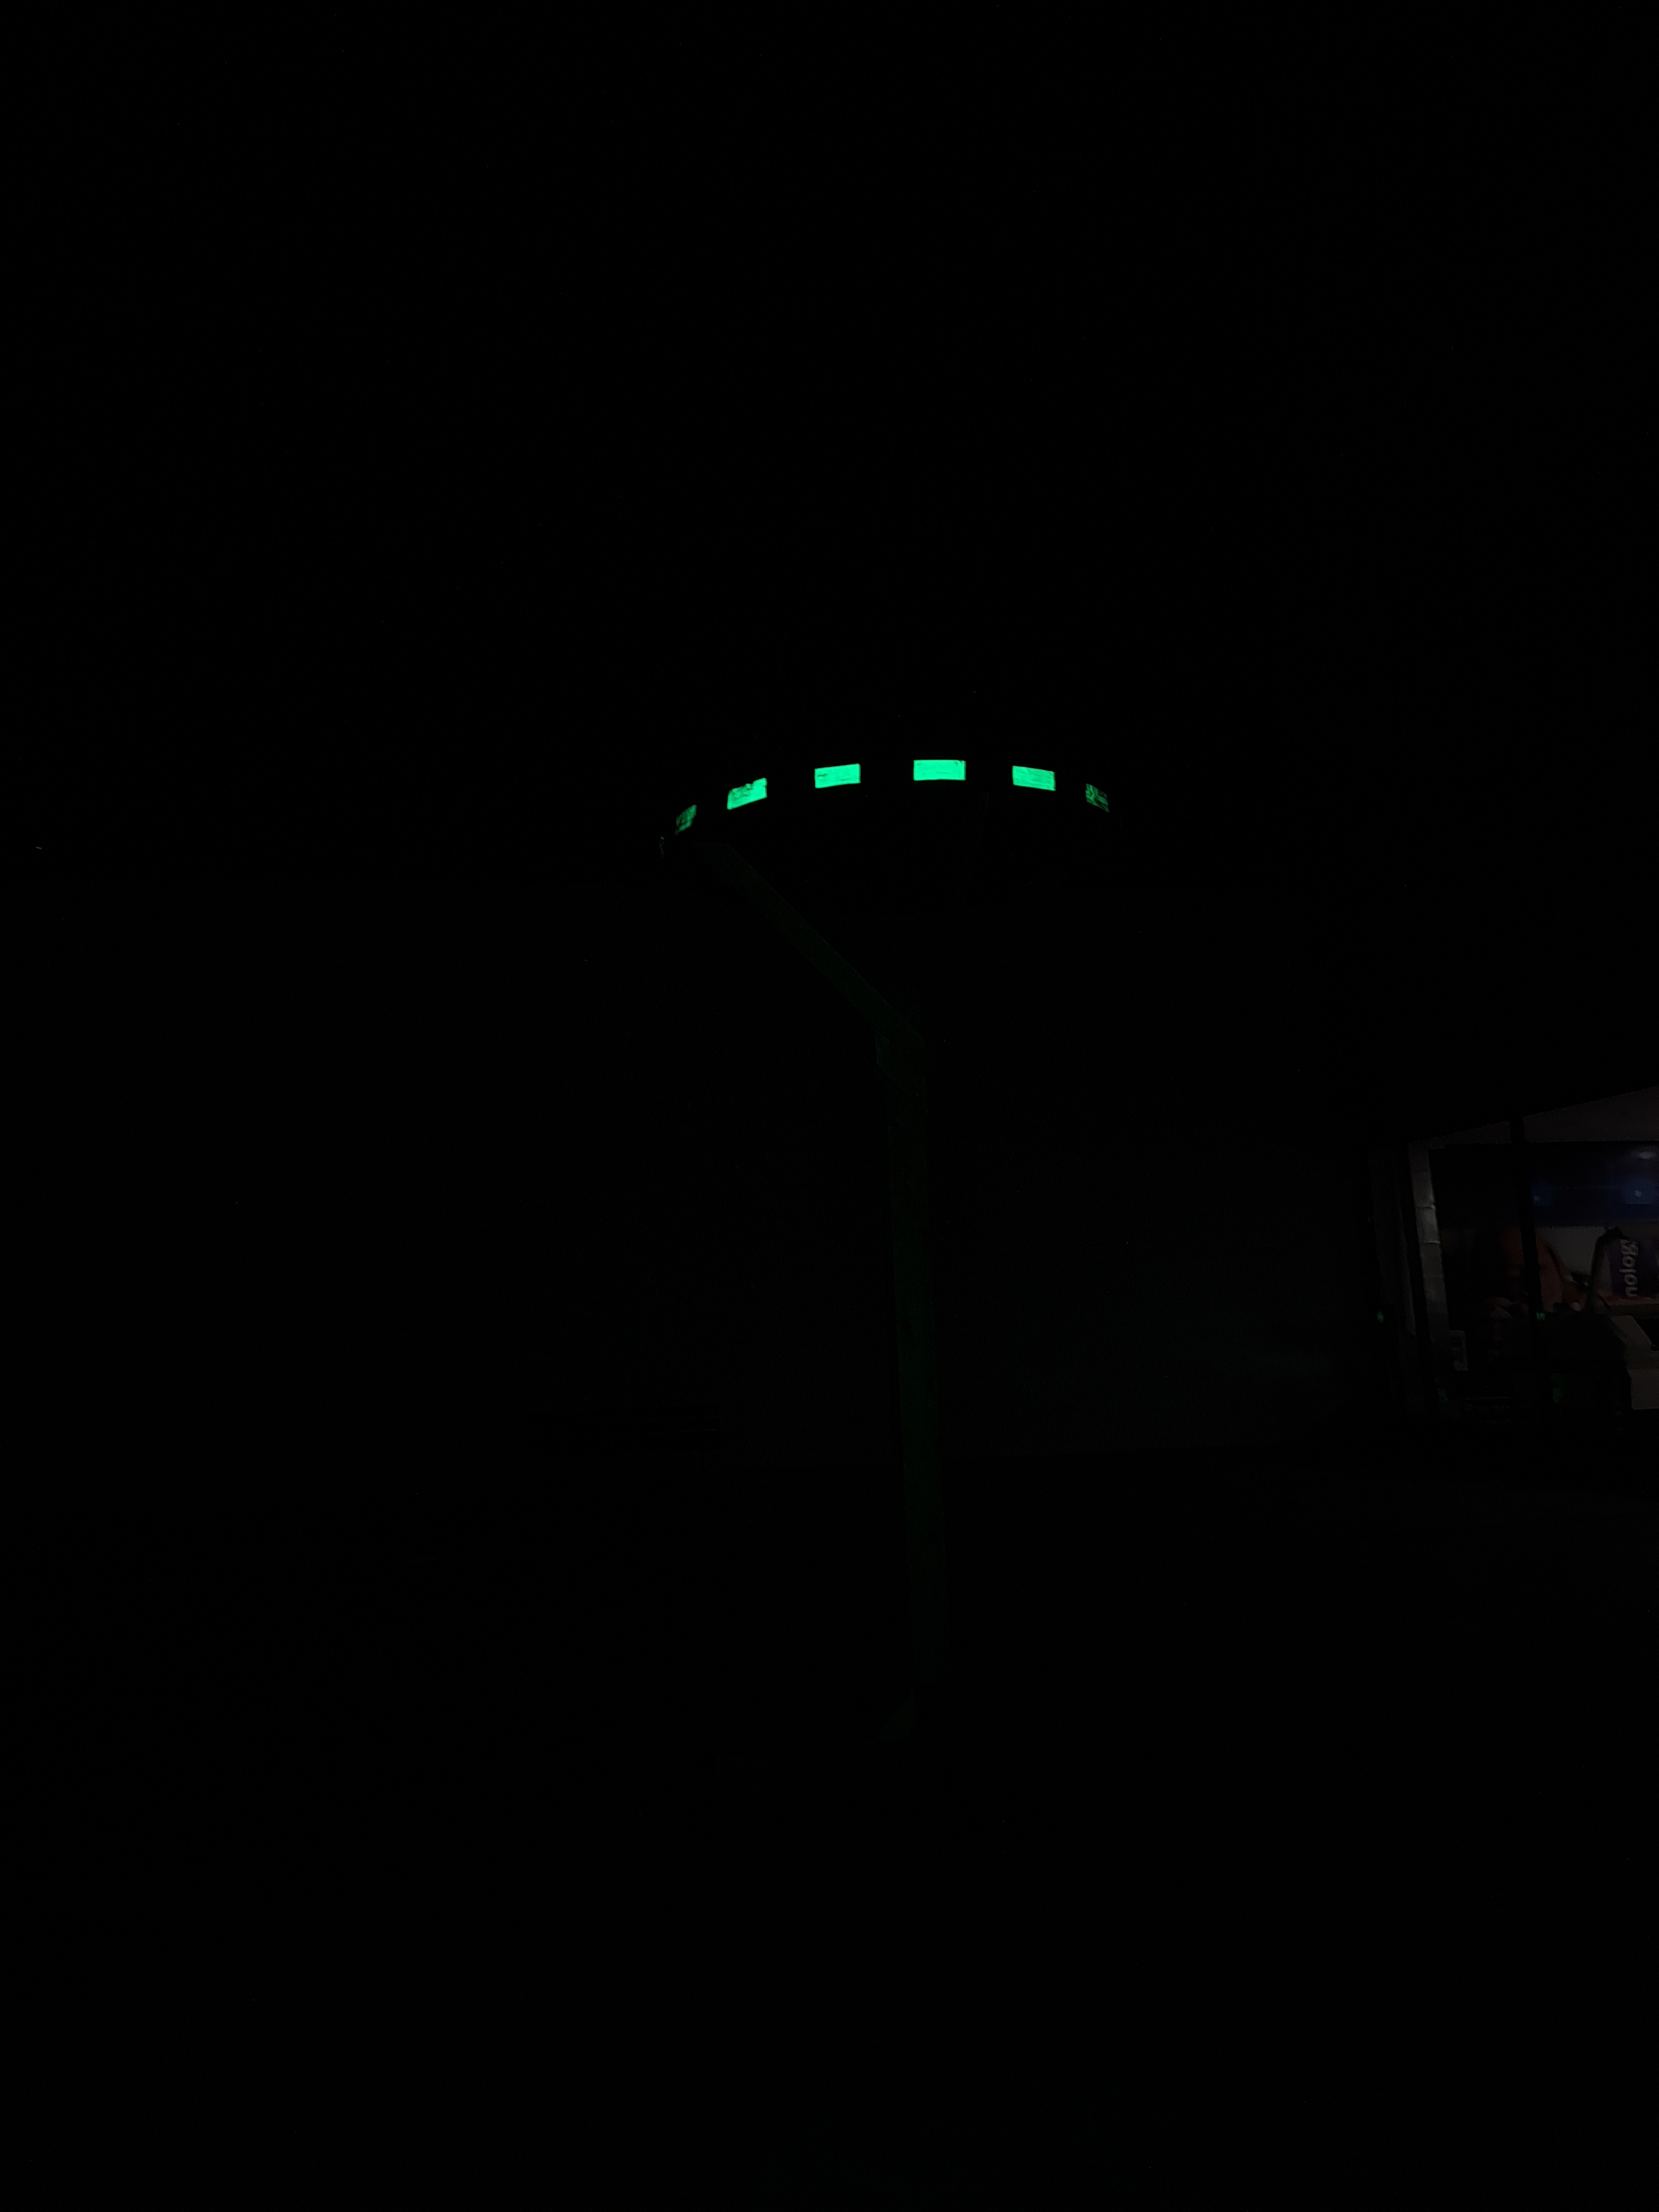hoop: (636, 730, 1164, 878)
